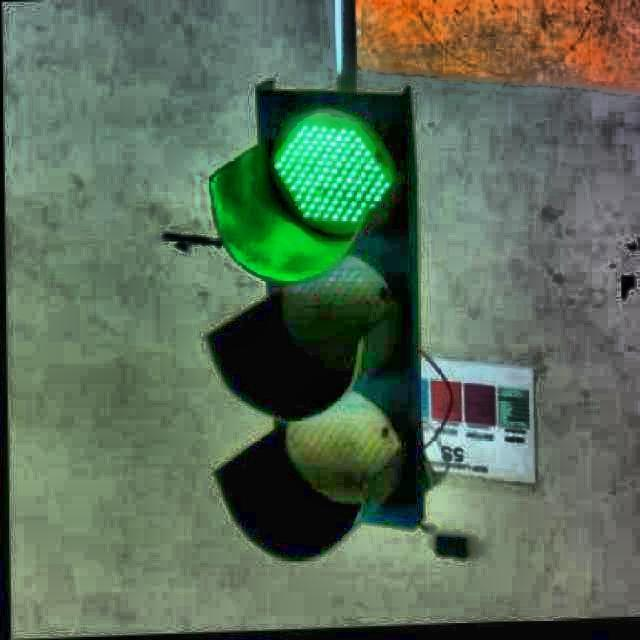green: (238, 89, 431, 527)
